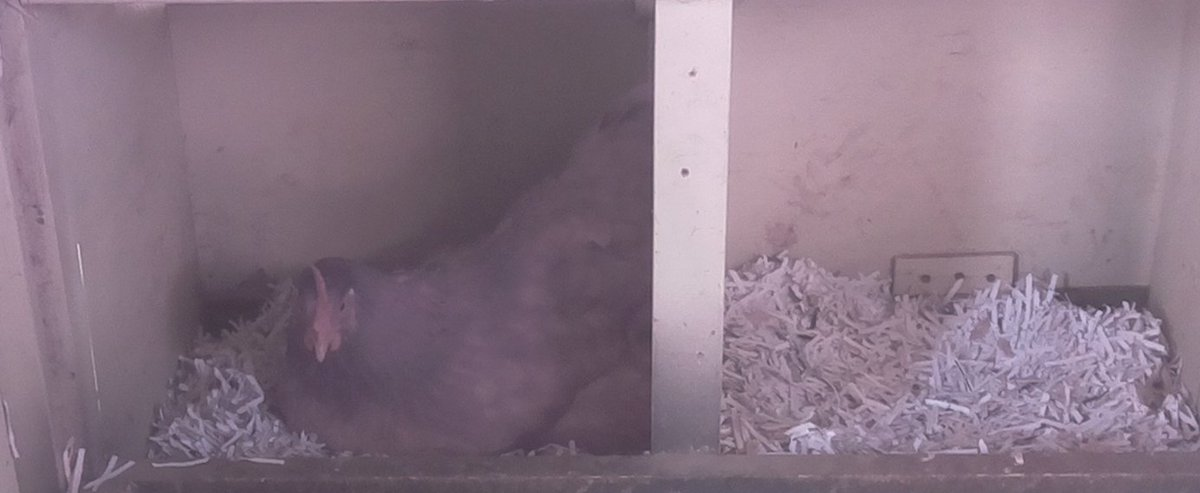hen: (263, 79, 649, 458)
